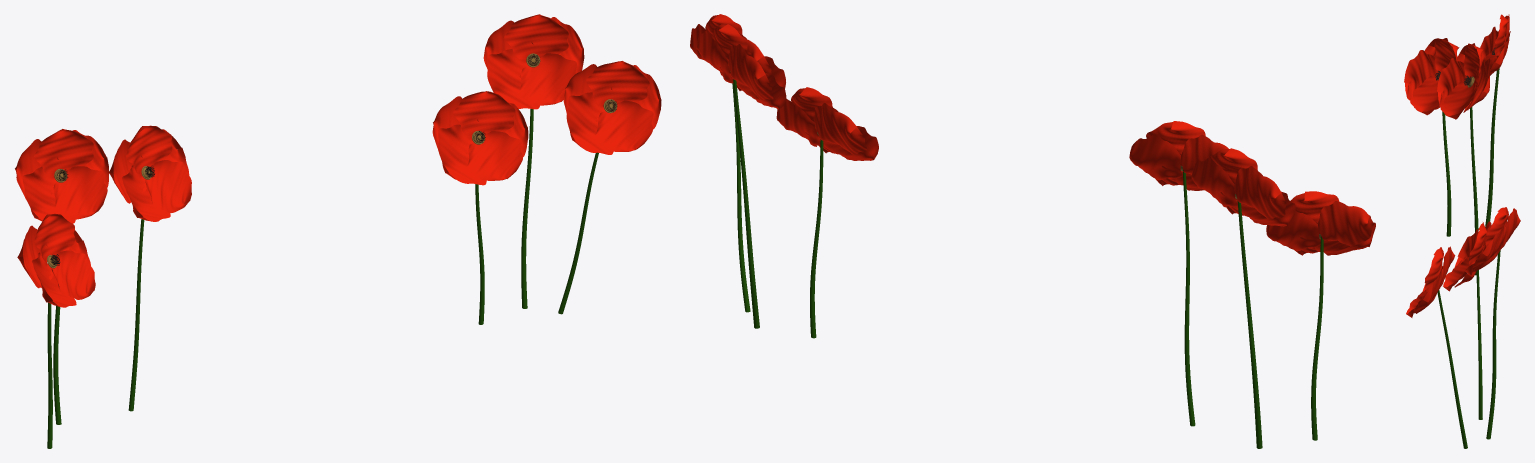
The model's file is flower-poppy.glb.
The picture shows the model from 3 angles, left to right: view 1: azimuth 30°, elevation 25°; view 2: azimuth 150°, elevation 25°; view 3: azimuth 270°, elevation 25°; orthographic projection. The views are drawn at different scales.
Visible parts, largest first — view 1: Poppy Petal 05.001, Poppy Petal 05.005, Poppy Petal 05.002, Poppy Petal 05, Poppy Petal 02.002, Poppy Petal 02, Poppy Petal 02.001, Poppy Petal 02.005, Poppy Petal 05.004, Poppy Petal 04.002, Poppy Petal 04.001, Poppy Petal 04 (+20 smaller); view 2: Poppy Petal 03.003, Poppy Petal 03.005, Poppy Petal 01.004, Poppy Petal 03, Poppy Petal 03.002, Poppy Petal 01.003, Poppy Petal 01.005, Poppy Stem.005, Poppy Stem.002, Poppy Stem.004, Poppy Petal 01, Poppy Stem.001 (+11 smaller); view 3: Poppy Petal 04.003, Poppy Stem.002, Poppy Petal 04.004, Poppy Petal 05.003, Poppy Petal 05.004, Poppy Stem.005, Poppy Stem.001, Poppy Stem, Poppy Petal 02.004, Poppy Petal 01.002, Poppy Petal 01.004, Poppy Petal 02.003 (+15 smaller).
Part boxes in pixels (x1=…): Poppy Petal 05.001: x1=595, y1=100, x2=653, y2=151; Poppy Petal 05.005: x1=53, y1=166, x2=107, y2=219; Poppy Petal 05.002: x1=519, y1=53, x2=576, y2=105; Poppy Petal 05: x1=467, y1=131, x2=522, y2=180; Poppy Petal 02.002: x1=504, y1=14, x2=568, y2=59; Poppy Petal 02: x1=453, y1=91, x2=515, y2=136; Poppy Petal 02.001: x1=586, y1=61, x2=649, y2=103; Poppy Petal 02.005: x1=34, y1=129, x2=93, y2=176; Poppy Petal 05.004: x1=145, y1=160, x2=191, y2=212; Poppy Petal 04.002: x1=487, y1=49, x2=539, y2=109; Poppy Petal 04.001: x1=566, y1=92, x2=613, y2=154; Poppy Petal 04: x1=438, y1=124, x2=486, y2=185; Poppy Petal 03.003: x1=1318, y1=201, x2=1373, y2=246; Poppy Petal 03.005: x1=1234, y1=166, x2=1286, y2=219; Poppy Petal 01.004: x1=1129, y1=134, x2=1182, y2=180; Poppy Petal 03: x1=814, y1=103, x2=867, y2=154; Poppy Petal 03.002: x1=728, y1=44, x2=773, y2=99; Poppy Petal 01.003: x1=1266, y1=211, x2=1320, y2=251; Poppy Petal 01.005: x1=1191, y1=157, x2=1237, y2=207; Poppy Stem.005: x1=1237, y1=201, x2=1262, y2=448; Poppy Stem.002: x1=733, y1=79, x2=759, y2=328; Poppy Stem.004: x1=1183, y1=170, x2=1195, y2=426; Poppy Petal 01: x1=776, y1=98, x2=824, y2=146; Poppy Stem.001: x1=732, y1=83, x2=750, y2=312; Poppy Petal 04.003: x1=1404, y1=50, x2=1439, y2=107; Poppy Stem.002: x1=1486, y1=250, x2=1500, y2=439; Poppy Petal 04.004: x1=1437, y1=58, x2=1467, y2=107; Poppy Petal 05.003: x1=1410, y1=76, x2=1439, y2=115; Poppy Petal 05.004: x1=1440, y1=82, x2=1475, y2=119; Poppy Stem.005: x1=1485, y1=68, x2=1499, y2=226; Poppy Stem.001: x1=1437, y1=290, x2=1467, y2=448; Poppy Stem: x1=1476, y1=270, x2=1482, y2=419; Poppy Petal 02.004: x1=1464, y1=43, x2=1483, y2=89; Poppy Petal 01.002: x1=1472, y1=224, x2=1506, y2=271; Poppy Petal 01.004: x1=1463, y1=58, x2=1490, y2=112; Poppy Petal 02.003: x1=1434, y1=39, x2=1459, y2=71.
Bounding box in the file's own units: 21.84 × 9.29 × 4.16.
